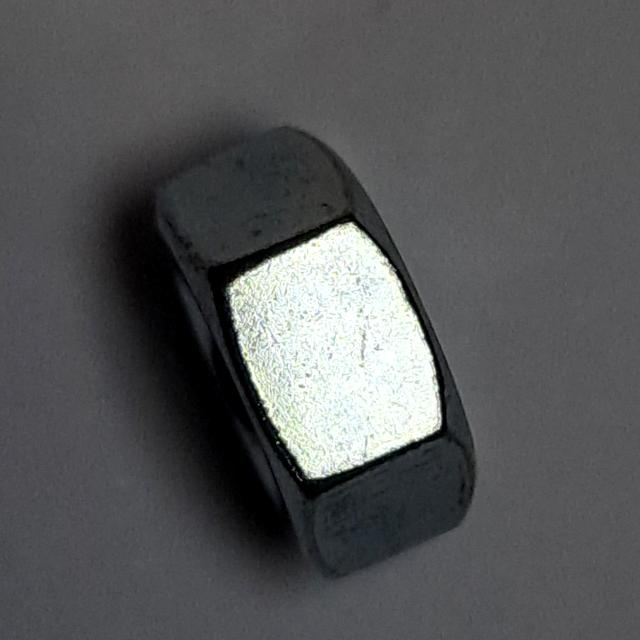Side_Excellent: (134, 111, 491, 593)
